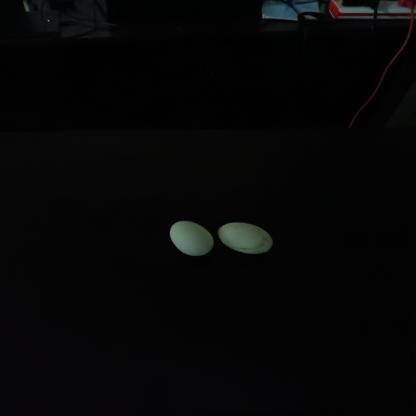egg: (152, 212, 223, 272), (224, 216, 285, 254)
